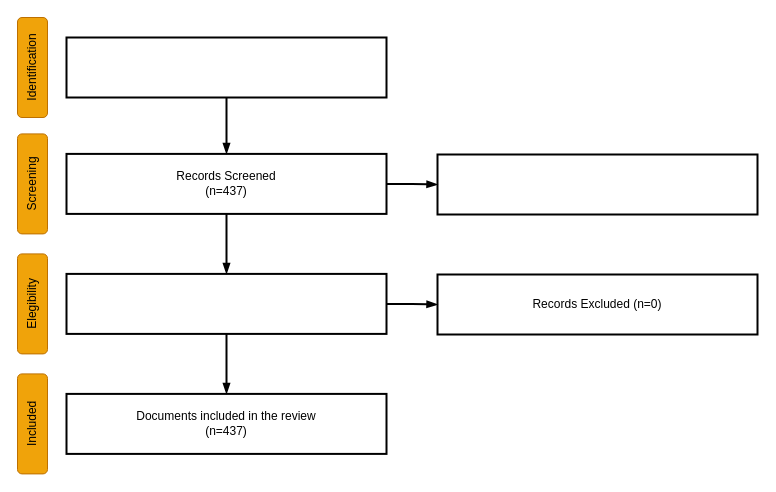
Image size: 776x492. Some labels were removed from this diagram. Here are the shapes that lost their labels. From the top down, the centre of each, then its label:
the point at 226,67: Records Identified through database searching (n=1196)
the point at 597,184: Records Excluded (n=759) (Erratum=1, Retracted=4, PubYear <2015, 2024< PubYear )
the point at 226,303: Documents assessed for eligibility (n=437)
